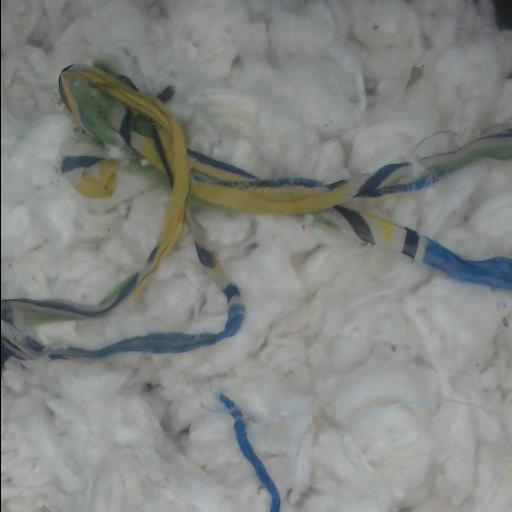cloth: (1, 65, 512, 367), (373, 215, 512, 290), (218, 395, 279, 511), (61, 156, 115, 196)
cotton: (1, 203, 512, 511), (1, 0, 512, 306), (359, 160, 512, 258)
